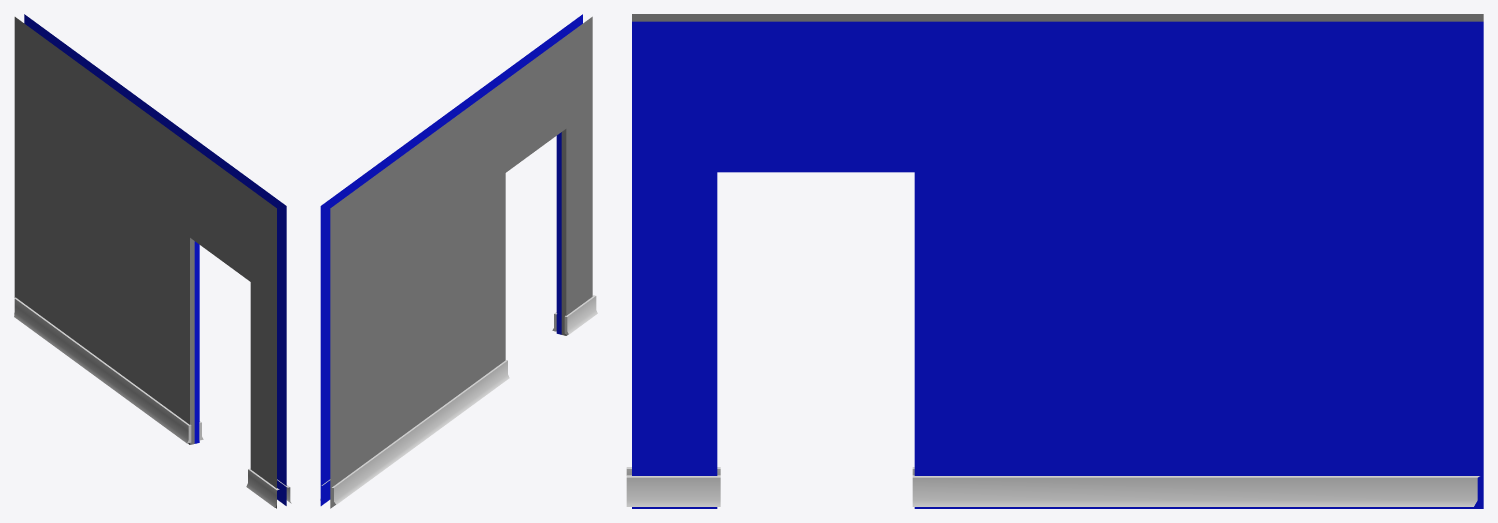
Rendered from FLAT_wall_05.FBX.
The picture shows the model from 3 angles, left to right: view 1: azimuth 30°, elevation 25°; view 2: azimuth 150°, elevation 25°; view 3: azimuth 270°, elevation 25°; orthographic projection. The views are drawn at different scales.
Parts seen in each view (by area): view 1: FLAT_wall_05, FLAT_wall_05_plinthe; view 2: FLAT_wall_05, FLAT_wall_05_plinthe; view 3: FLAT_wall_05, FLAT_wall_05_plinthe.
Part boxes in pixels (bbox=[...]): FLAT_wall_05: bbox=[14, 14, 286, 508]; FLAT_wall_05_plinthe: bbox=[14, 297, 291, 507]; FLAT_wall_05: bbox=[320, 14, 592, 508]; FLAT_wall_05_plinthe: bbox=[320, 295, 597, 504]; FLAT_wall_05: bbox=[632, 14, 1483, 508]; FLAT_wall_05_plinthe: bbox=[626, 467, 1479, 506].
Size of the model in its own units: 24.4 by 421 by 671.
